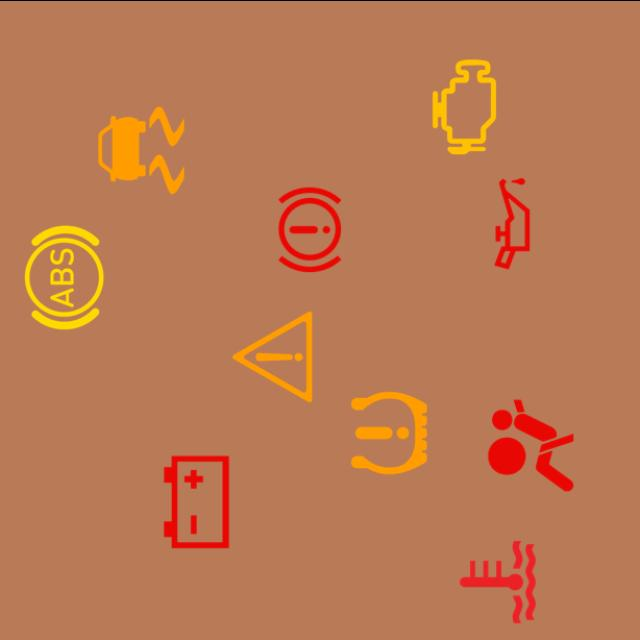Anti Lock Braking System: (7, 220, 121, 334)
Braking System Issue: (253, 172, 367, 286)
Charging System Issue: (140, 444, 253, 558)
Check Engine: (408, 49, 522, 163)
Electronic Stability Problem -ESP-: (84, 92, 198, 206)
Engine Overheating Warning Light: (440, 524, 554, 638)
Low Engine Oil Warning Light: (456, 166, 570, 280)
Low Tire Pressure Warning Light: (332, 375, 447, 489)
Master warning light: (216, 299, 330, 413)
SRS-Airbag: (474, 388, 588, 502)
